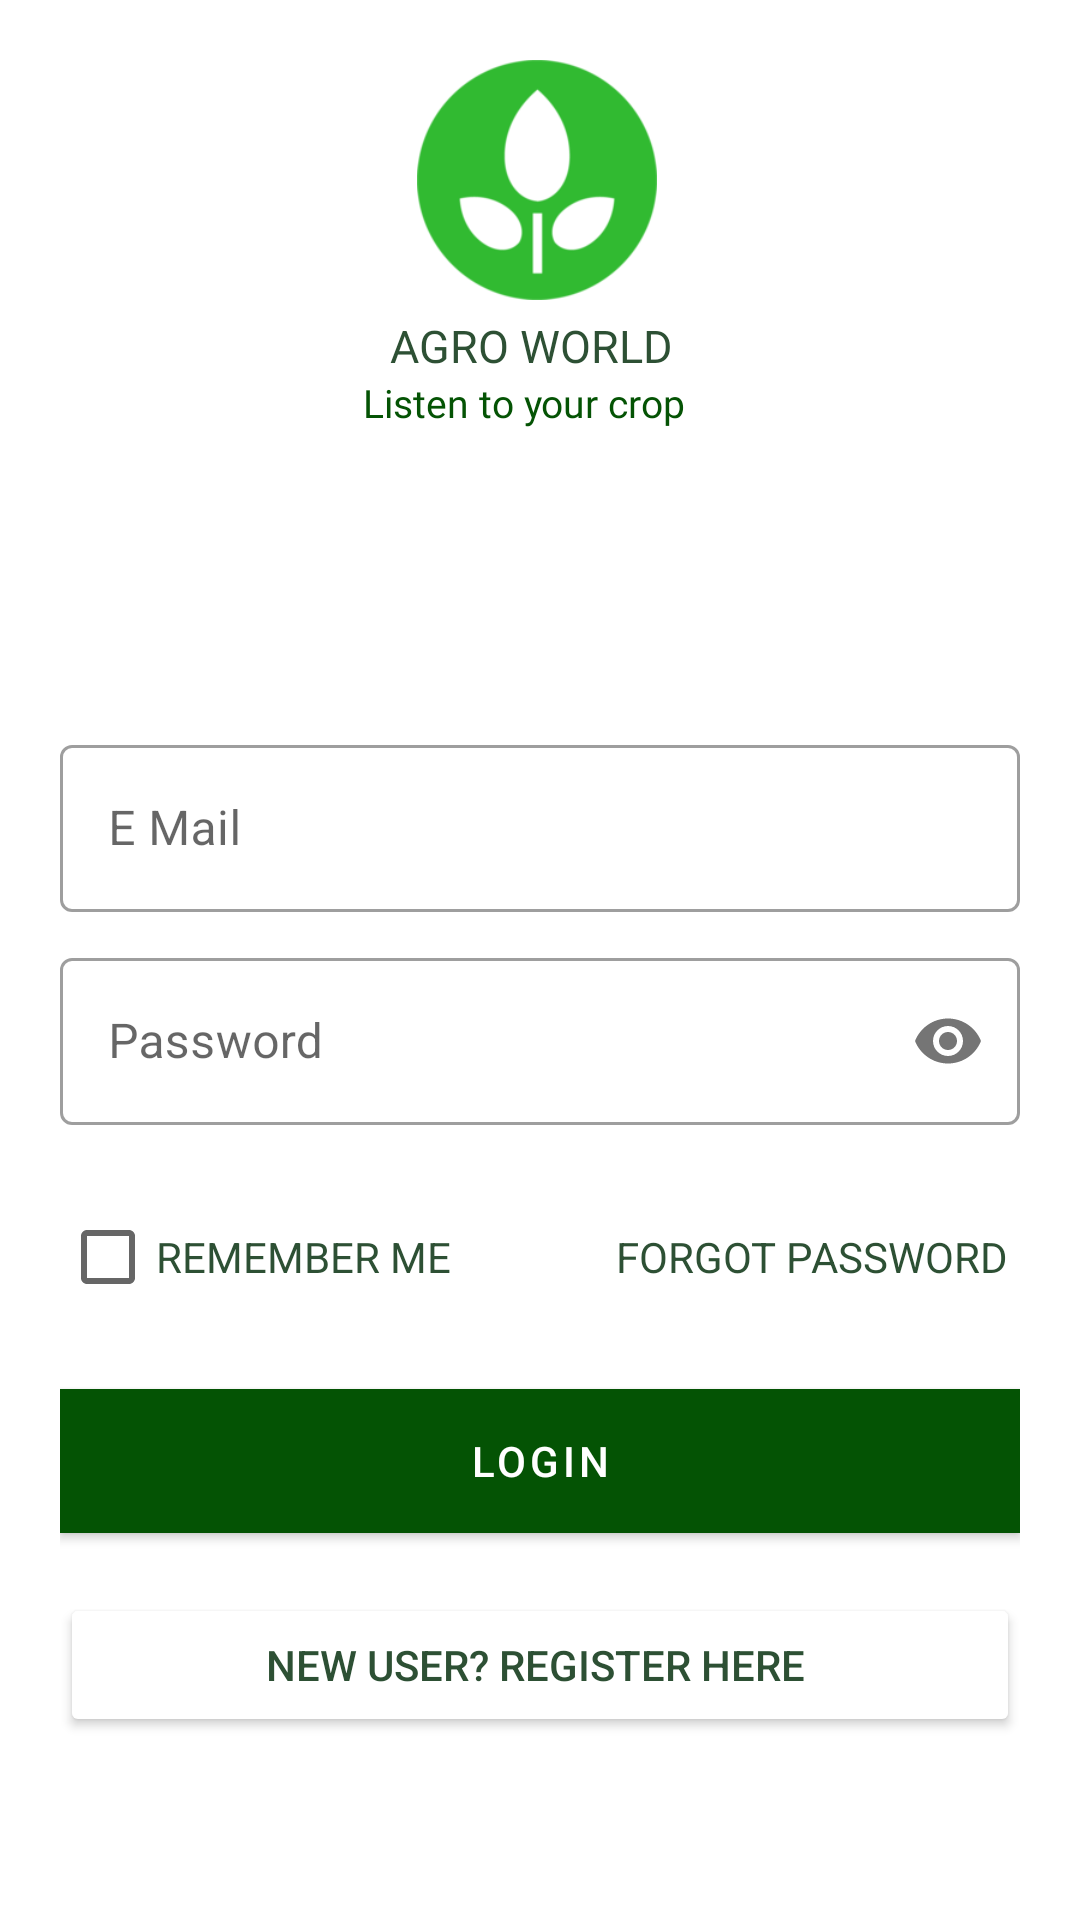

Icons on this 1080x1920 Android screen, each with the point to tap as point (x, y):
plantt: point (537, 180)
